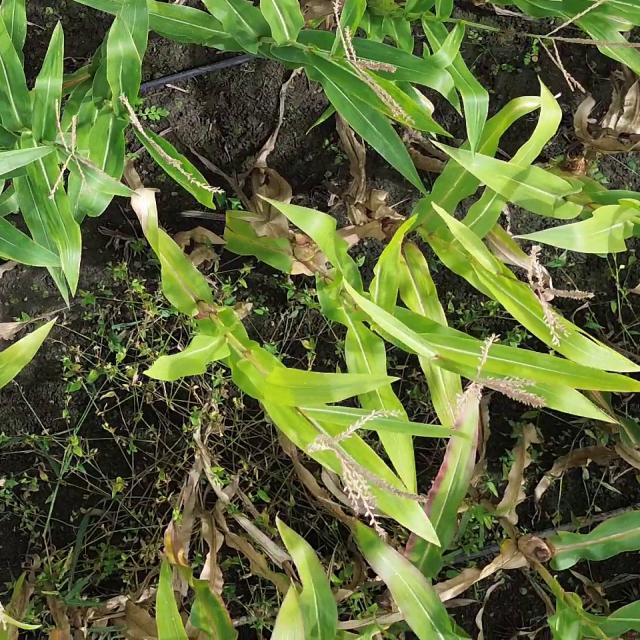northern-leaf-blight: (132, 194, 162, 247), (196, 600, 231, 640)
